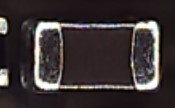COMP: (18, 14, 166, 97)
GAP: (1, 16, 52, 89)
